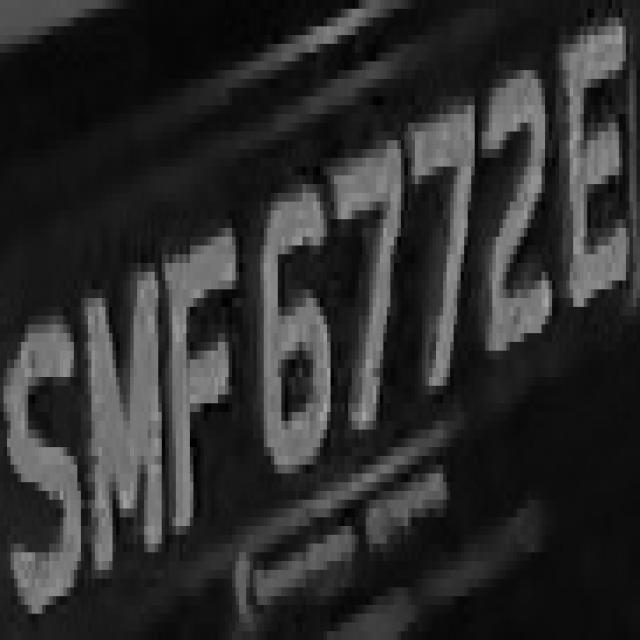2: (471, 61, 556, 438)
6: (246, 158, 334, 482)
7: (401, 114, 485, 430), (334, 132, 408, 464)
E: (559, 27, 630, 360)
F: (151, 202, 239, 544)
M: (74, 237, 169, 605)
S: (10, 281, 81, 614)
